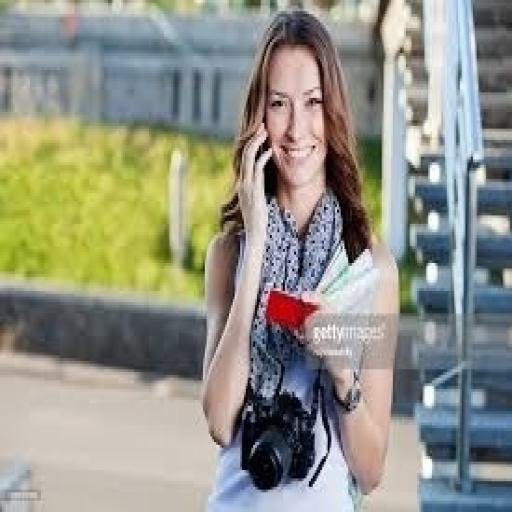calling: (199, 8, 402, 510)
